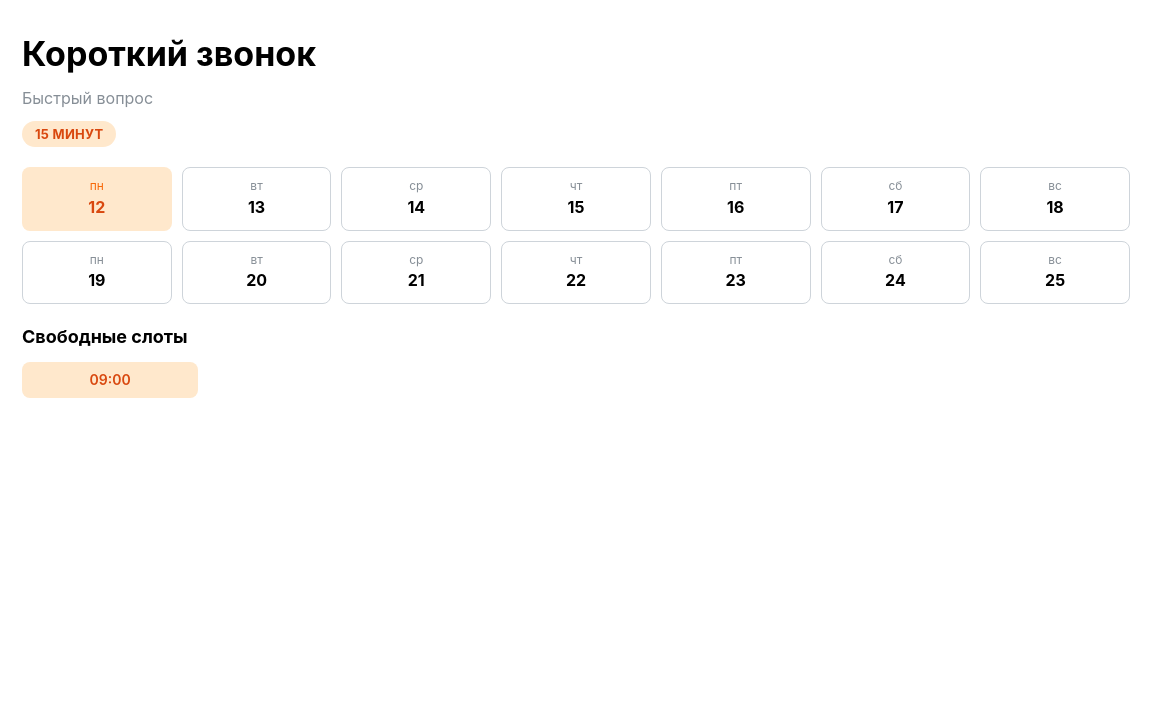
EventTypePage › показывает форму после выбора слота и создаёт запись с введёнными данными
Click the button "09:00" at (110, 380), box [22,362,198,398]
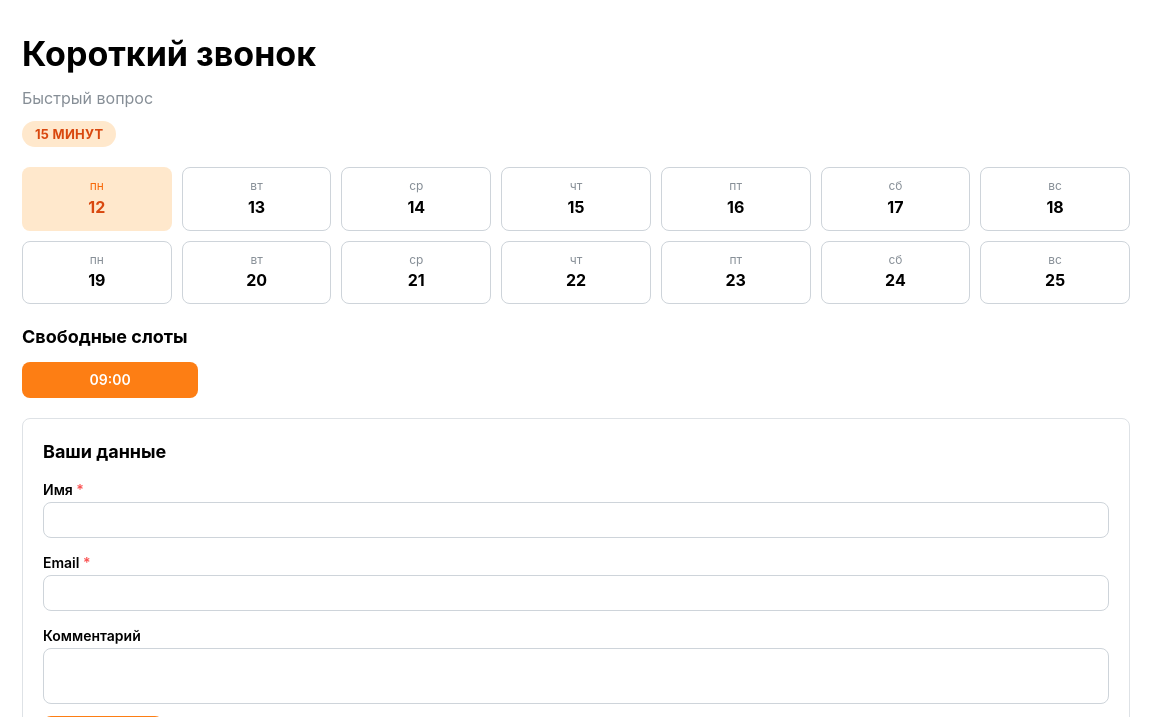
Type "Анна" into the field labelled "Имя *" at (576, 520), box [43,502,1109,538]
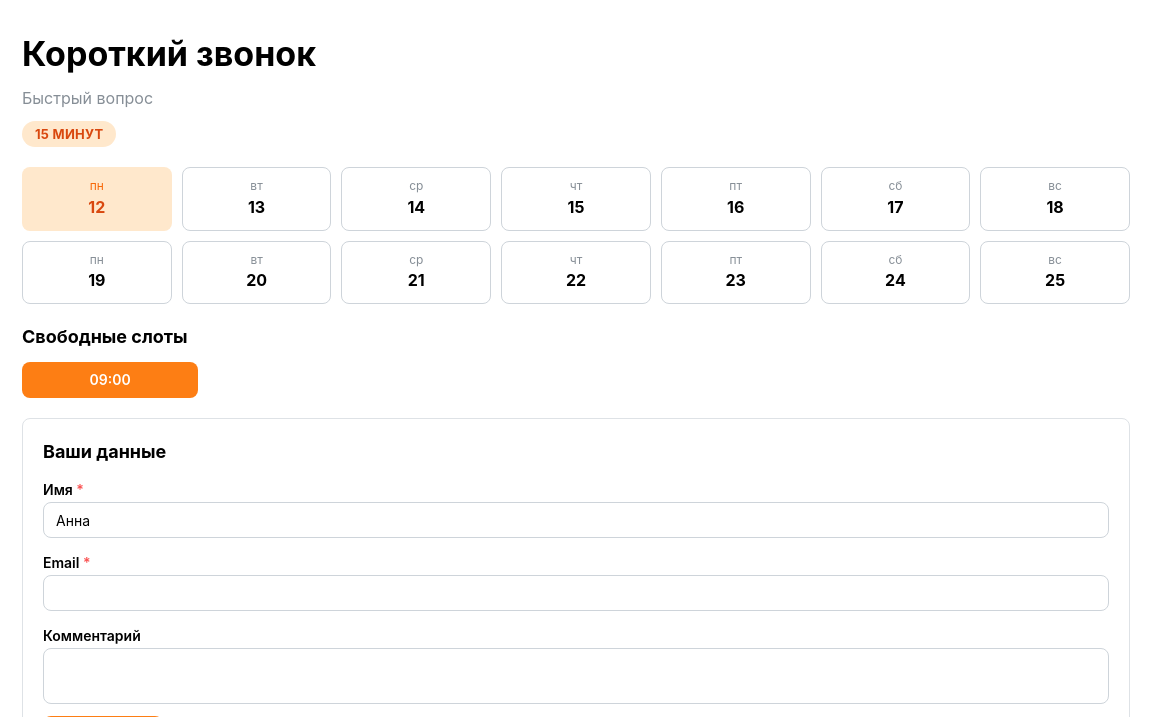
Type "anna@example.com" into the field labelled "Email *" at (576, 593), box [43,575,1109,611]
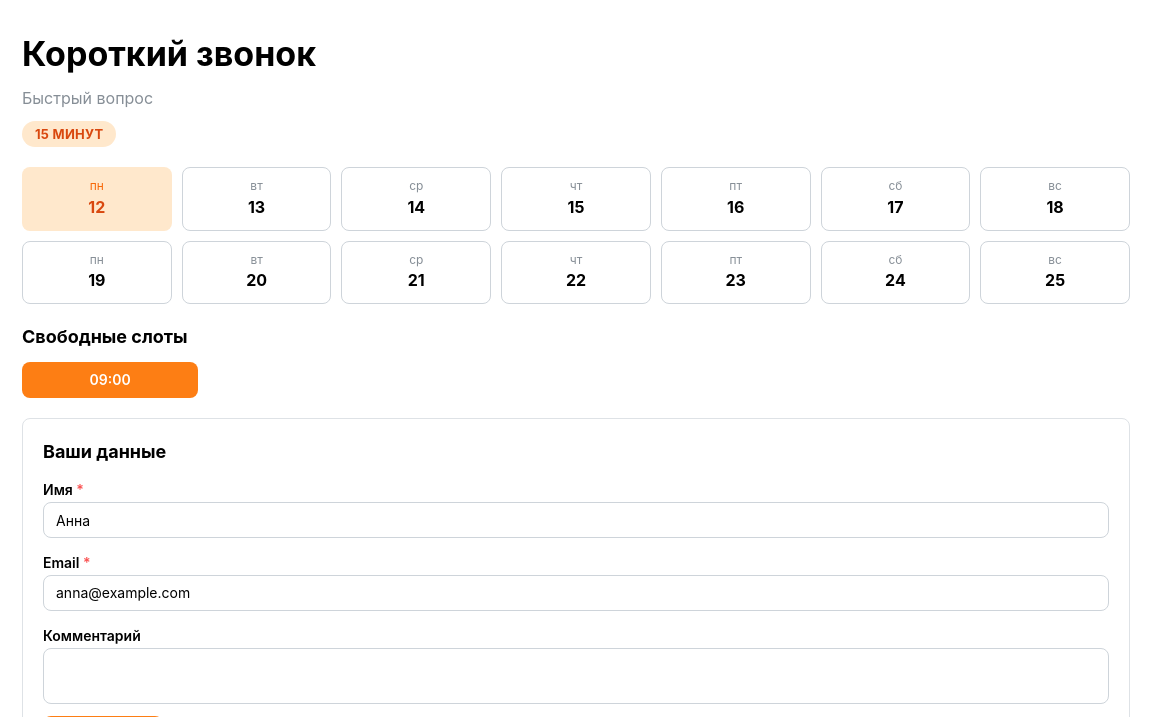
Type "Позвоните заранее" into the text box labelled "Комментарий" at (576, 676), box [43,648,1109,704]
(page scrolled)
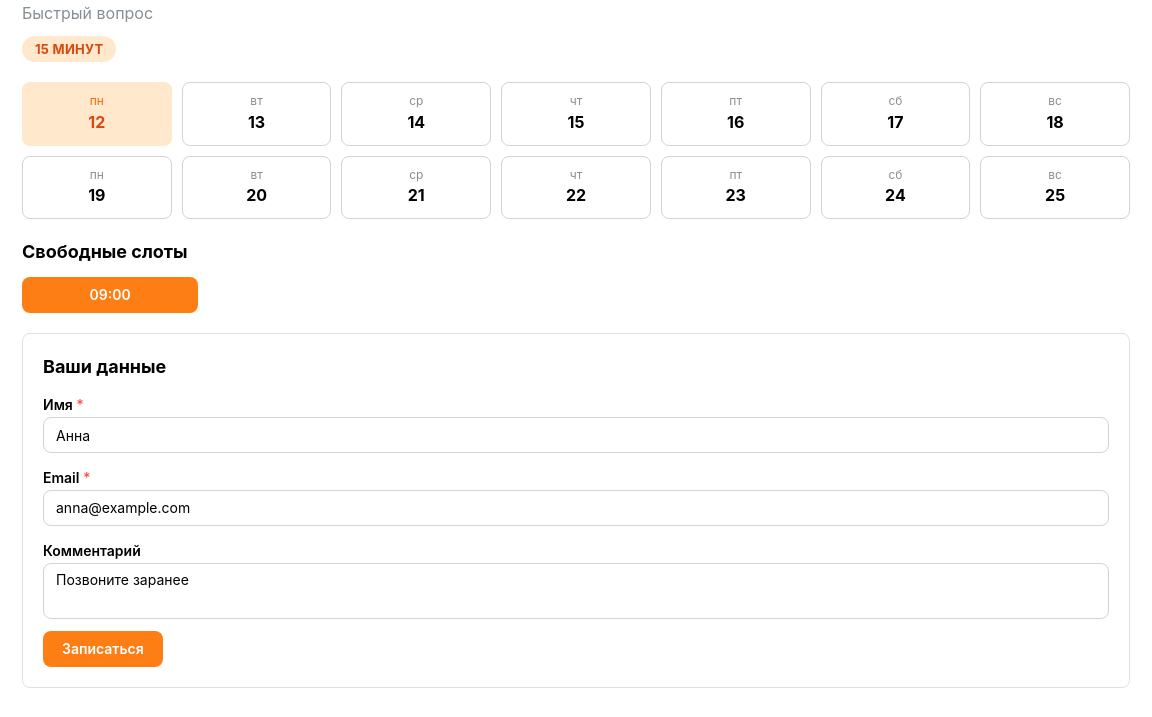
Click the button "Записаться" at (103, 649), box [43,631,163,667]
(page scrolled)
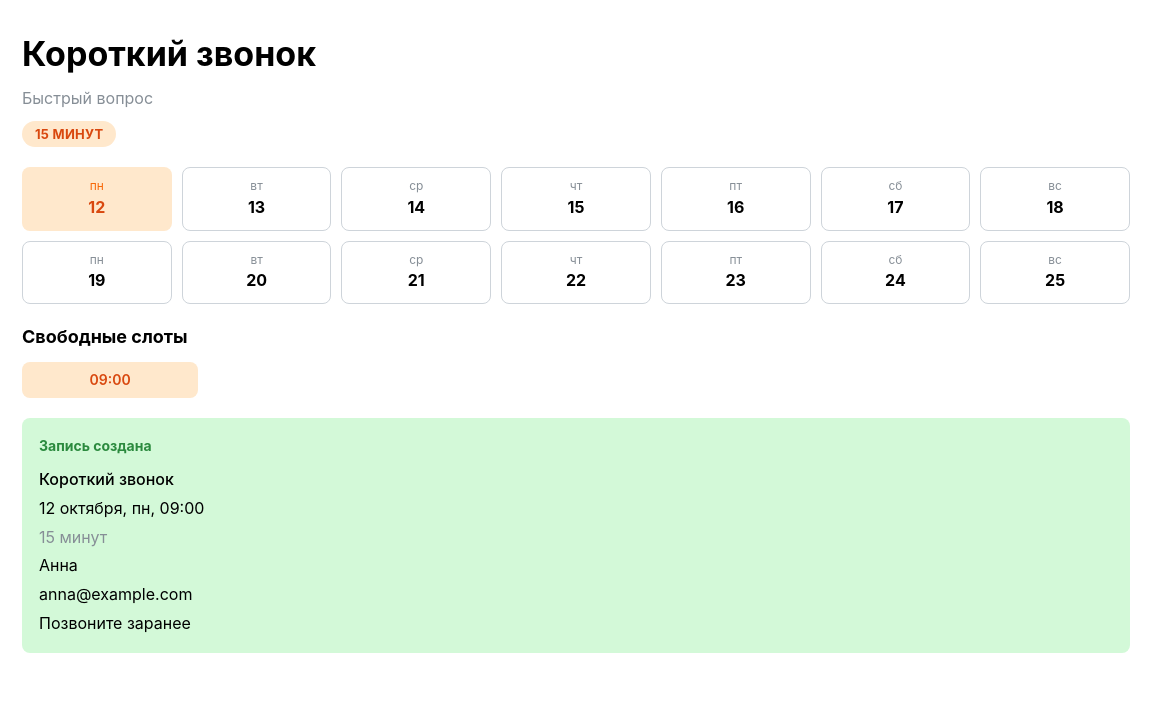
Expected: the text "Запись создана" is shown, [39,435,152,457]
